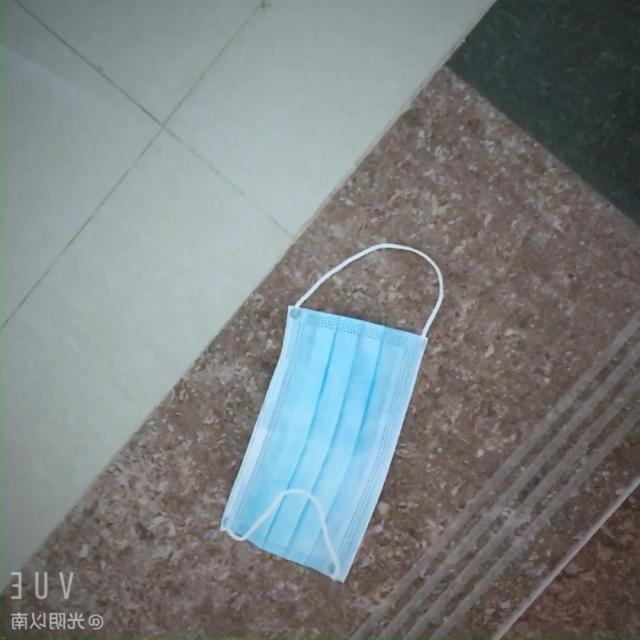face mask: (229, 304, 452, 596)
